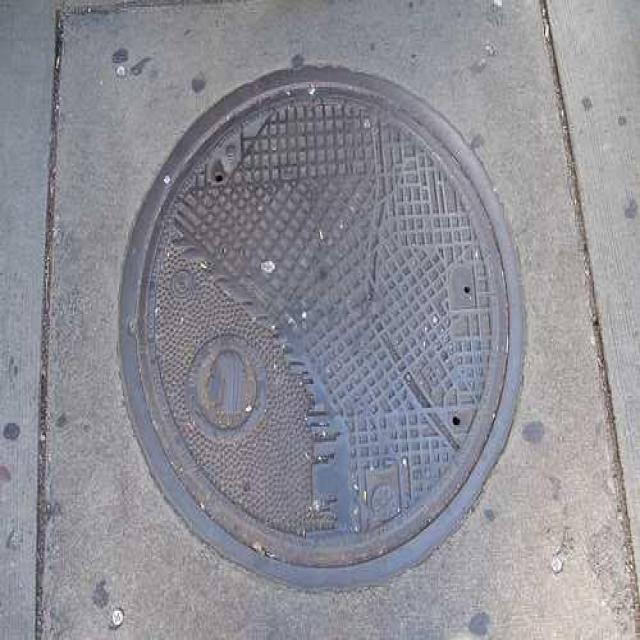manhole: (116, 67, 527, 592)
